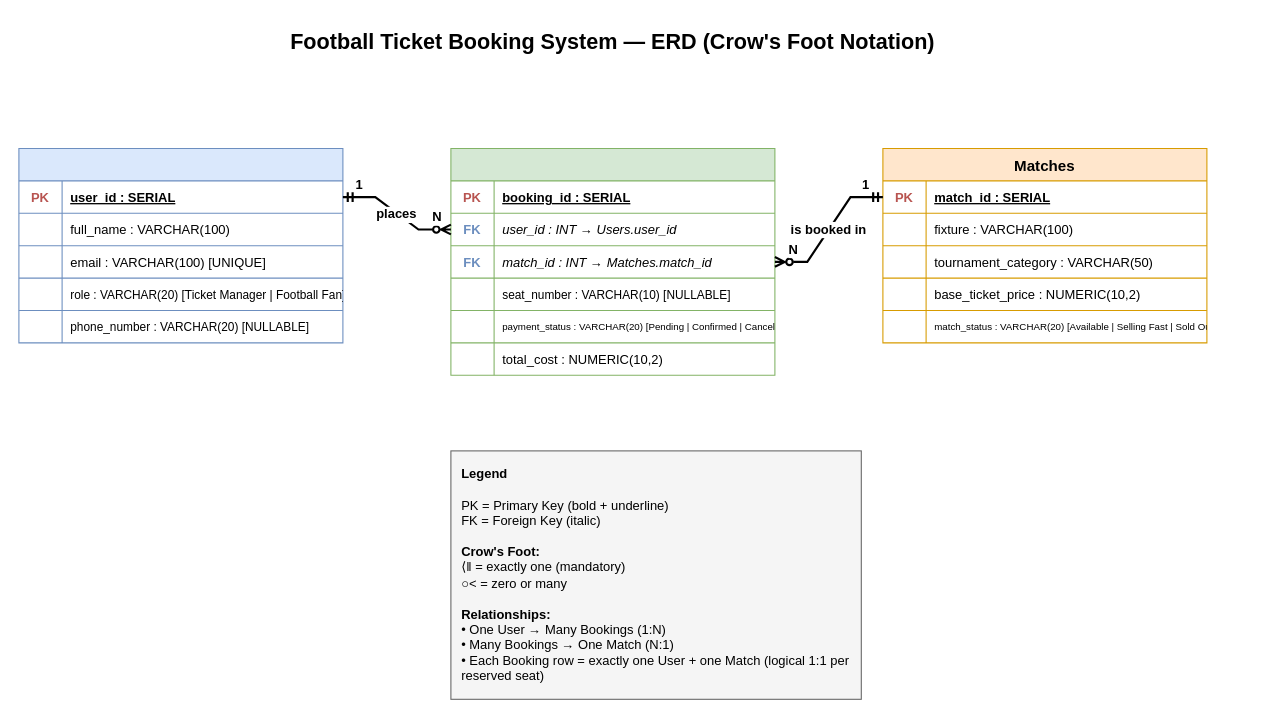
This 1288x718 diagram has some shape labels left out. The shapes that lost their labels are listed below. From the top down, each one's box as (x1, y1, x2, y2) in pixels, then its label:
(18, 147, 343, 343): Users
(450, 147, 775, 375): Bookings
